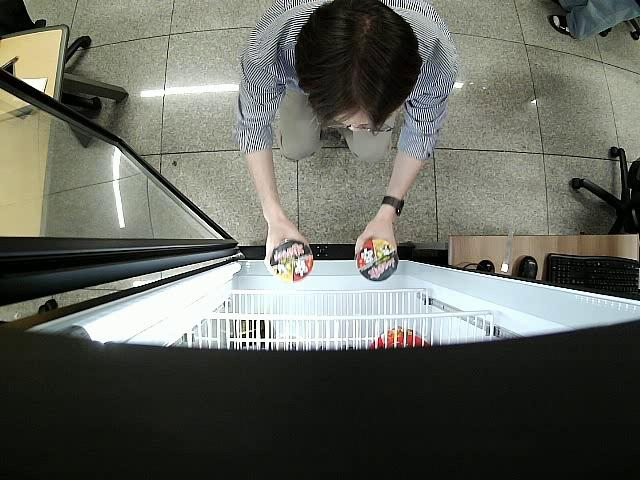00_hand: (265, 221, 310, 278), (353, 218, 396, 259)
08_buldak_S: (355, 236, 400, 283), (269, 238, 312, 281)
